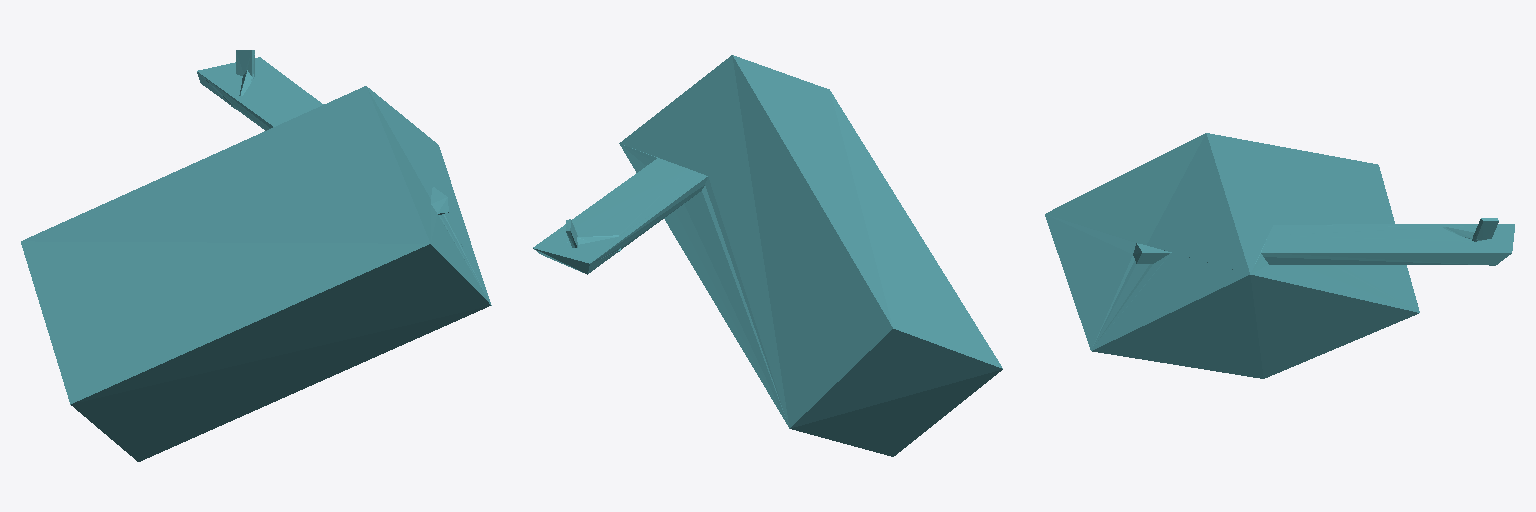
robot.urdf — blob988:

<robot name="blob988">
  <link name="random_obj_988">
    <contact>
      <lateral_friction value="1.0"/>
      <rolling_friction value="0.0"/>
      <inertia_scaling value="3.0"/>
      <contact_cfm value="0.0"/>
      <contact_erp value="1.0"/>
    </contact>
    <inertial>
      <origin rpy="0 0 0" xyz="0 0 0"/>
      <mass value="0.0999"/>
      <inertia ixx="1" ixy="0" ixz="0" iyy="1" iyz="0" izz="0"/>
    </inertial>
    <visual>
      <origin rpy="0 0 0" xyz="0 0 0"/>
      <geometry>
        <mesh filename="988.obj" scale="0.0086 0.0086 0.0086"/>
      </geometry>
      <material name="blockmat">
        <color rgba="0.40 0.68 0.71 1"/>
      </material>
    </visual>
    <collision>
      <origin rpy="0 0 0" xyz="0 0 0"/>
      <geometry>
        <mesh filename="988_coll.obj" scale="0.0086 0.0086 0.0086"/>
      </geometry>
    </collision>
  </link>
</robot>

--- Render facts (derived) ---
Views: 3 orthographic renders of the robot side by side, from view 1: azimuth 30°, elevation 25°; view 2: azimuth 150°, elevation 25°; view 3: azimuth 270°, elevation 25°.
Robot: blob988 — 1 links, 0 joints (none); root link random_obj_988; default pose: all joints at 0.
Links seen in each view (by area): view 1: random_obj_988; view 2: random_obj_988; view 3: random_obj_988.
Link boxes in pixels (x1=…): random_obj_988: x1=21, y1=50, x2=491, y2=461; random_obj_988: x1=533, y1=55, x2=1002, y2=456; random_obj_988: x1=1045, y1=133, x2=1514, y2=378.
Size in the robot's own frame: 0.1177 by 0.1283 by 0.1022 metres.
Meshes: 1 distinct files referenced, 1 mesh visuals loaded (1 OBJ).
